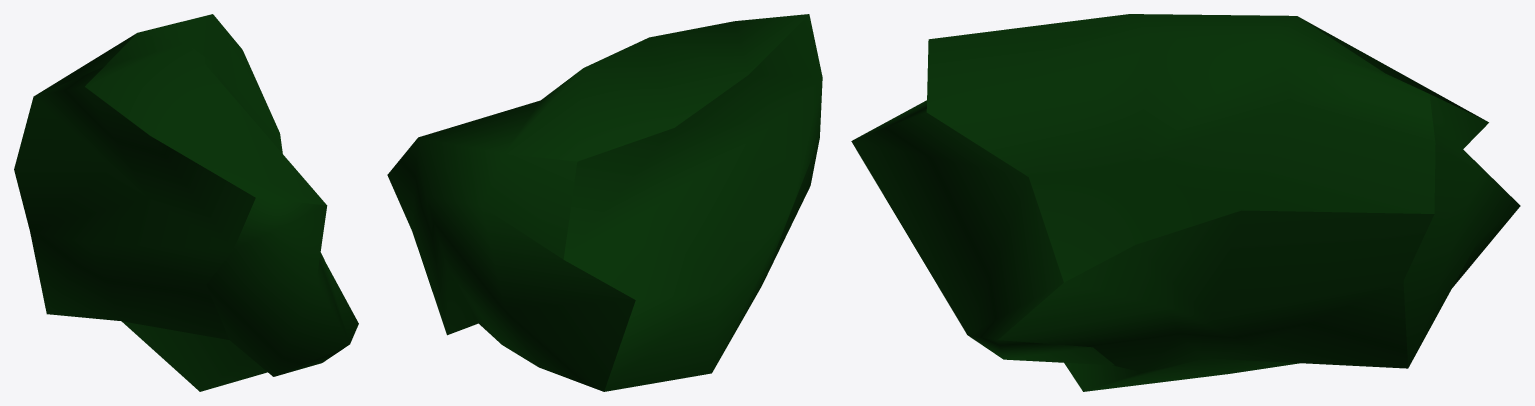
File: RockSm2.obj
3 views of the same model, side by side, from view 1: azimuth 30°, elevation 25°; view 2: azimuth 150°, elevation 25°; view 3: azimuth 270°, elevation 25° (orthographic). The views are drawn at different scales.
Parts seen in each view (by area): view 1: pasted__pCube2 group; view 2: pasted__pCube2 group; view 3: pasted__pCube2 group.
Part boxes in pixels (<box>): pasted__pCube2 group: <box>14,14,358,391</box>; pasted__pCube2 group: <box>387,14,822,391</box>; pasted__pCube2 group: <box>851,14,1520,391</box>.
Size of the model in its own units: 2.35 by 2.44 by 4.13.
